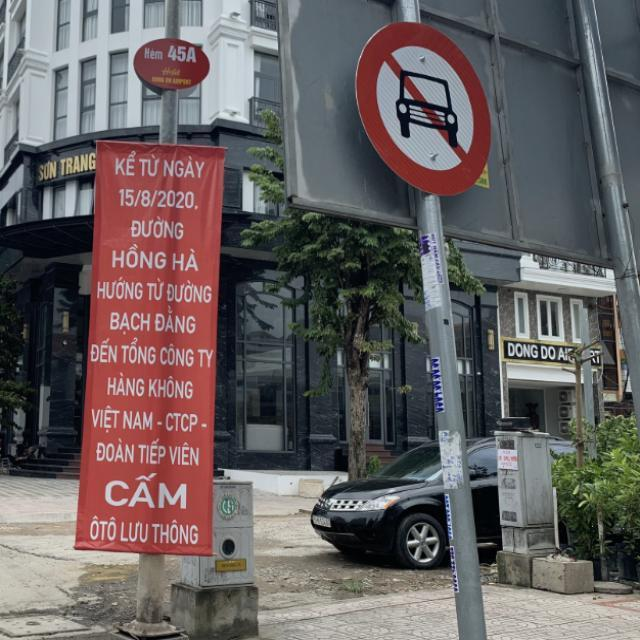103a-cam-oto: (352, 24, 492, 196)
